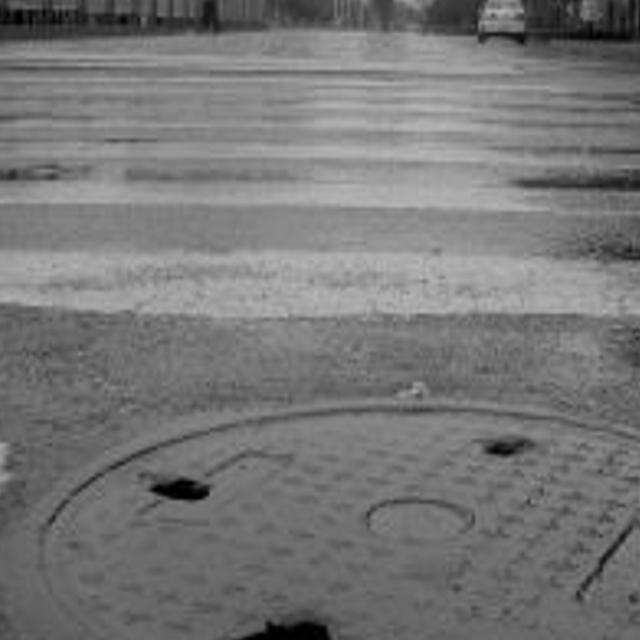broke: (0, 427, 640, 640)
